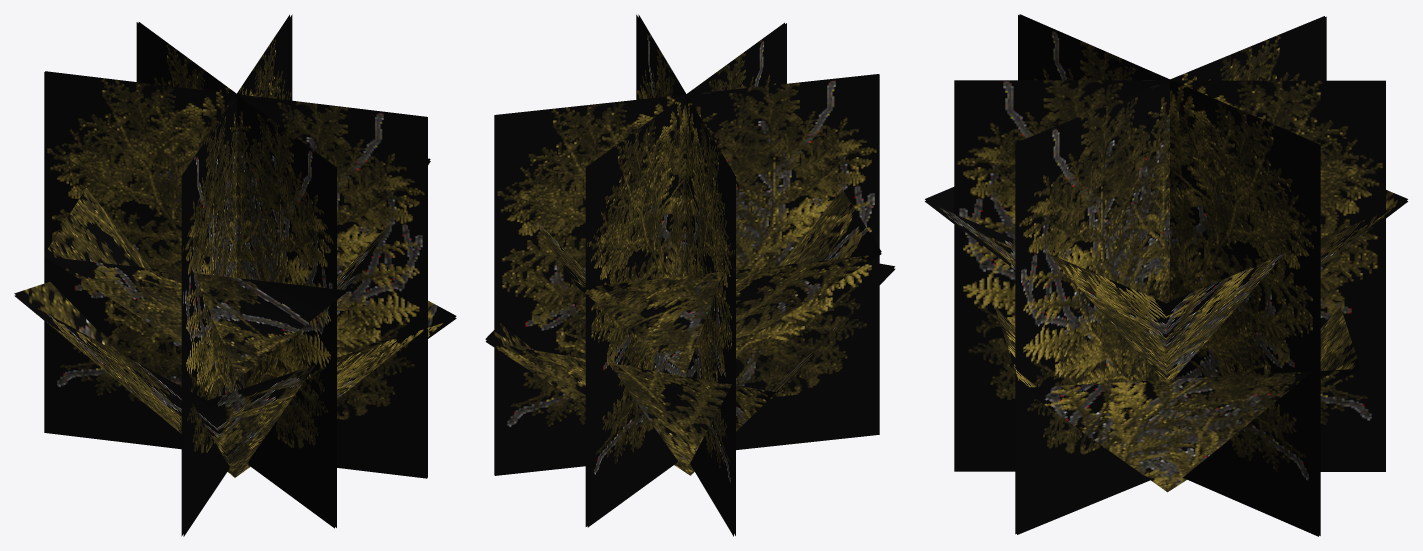
The model's file is generic_plant_c.dae.
3 renders of one model, left to right at view 1: azimuth 30°, elevation 25°; view 2: azimuth 150°, elevation 25°; view 3: azimuth 270°, elevation 25°, orthographic. The views are drawn at different scales.
Parts seen in each view (by area): view 1: Plane.004; view 2: Plane.004; view 3: Plane.004.
Boxes of the visible parts, x1,y1,x2,y2 form: Plane.004: [14, 14, 456, 536]; Plane.004: [485, 14, 895, 536]; Plane.004: [925, 14, 1407, 536].
Size of the model in its own units: 3.14 by 3.14 by 2.96.
